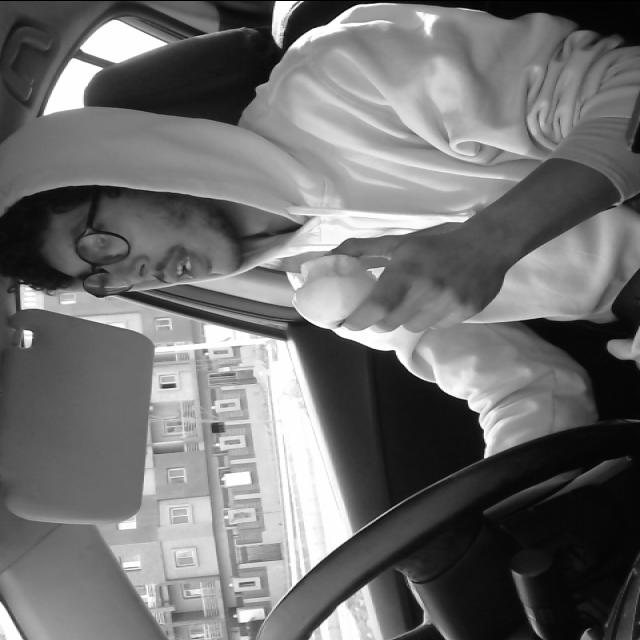eating: (287, 248, 390, 334)
